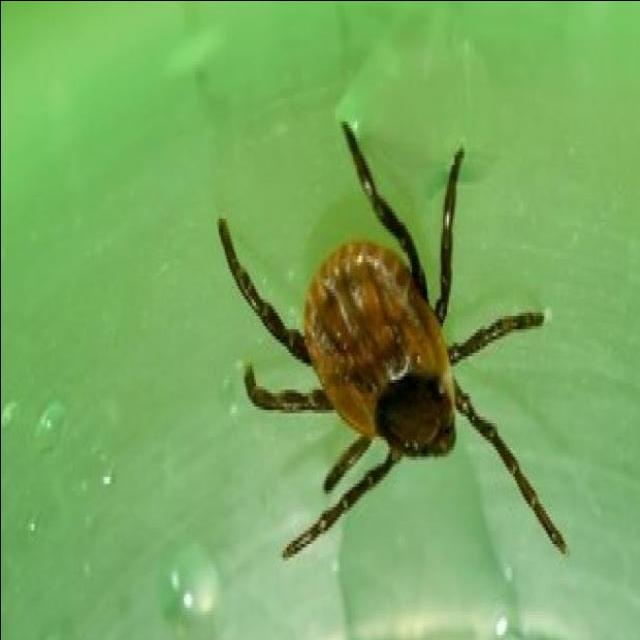Rhipicephalus Sanguineus-F: (218, 124, 565, 556)
